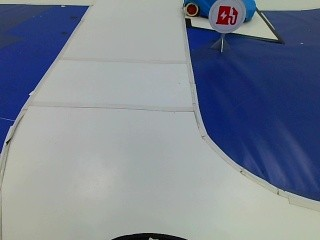battery: (210, 0, 242, 29)
